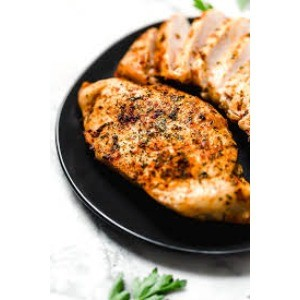chicken breast_brain food: (104, 79, 227, 222)
